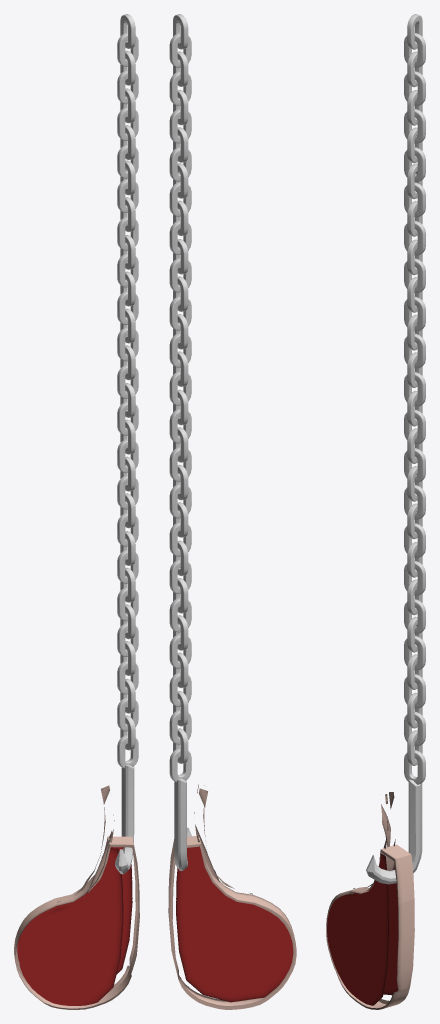
Rendered from hook_tomahawk.fbx.
The picture shows the model from 3 angles, left to right: view 1: azimuth 30°, elevation 25°; view 2: azimuth 210°, elevation 25°; view 3: azimuth 330°, elevation 25°; orthographic projection. The views are drawn at different scales.
Visible parts, largest first — view 1: Cube.006, Plane.004, Cube.005; view 2: Cube.006, Plane.004, Cube.005; view 3: Cube.006, Plane.004, Cube.005.
Boxes of the visible parts, box(x1,y1,x2,y2) form: Cube.006: box(117, 14, 138, 768); Plane.004: box(14, 785, 139, 1009); Cube.005: box(115, 760, 134, 874); Cube.006: box(169, 14, 191, 782); Plane.004: box(168, 784, 296, 1009); Cube.005: box(174, 778, 191, 870); Cube.006: box(404, 14, 425, 784); Plane.004: box(326, 792, 414, 1009); Cube.005: box(366, 779, 422, 884).
Size of the model in its own units: 93.56 by 799 by 60.7.
